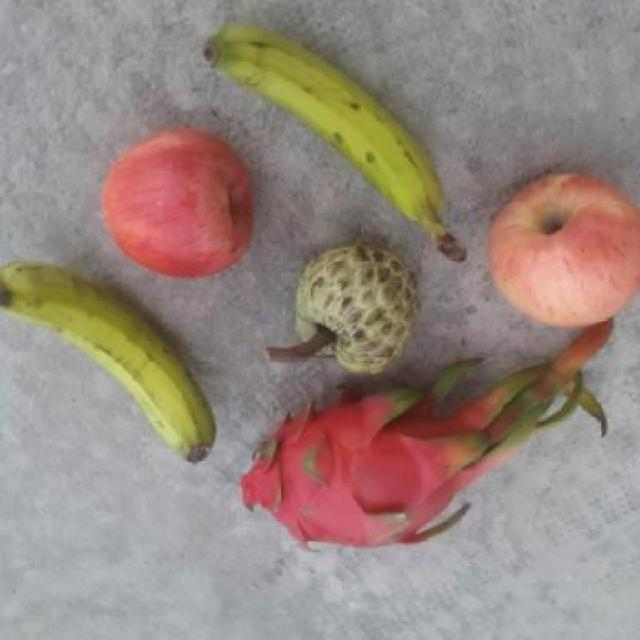apple: (477, 166, 640, 326), (95, 129, 258, 280)
banana: (196, 22, 470, 266), (0, 263, 215, 463)
dragon fruit: (238, 374, 490, 551)
sugar apple: (274, 242, 420, 380)
